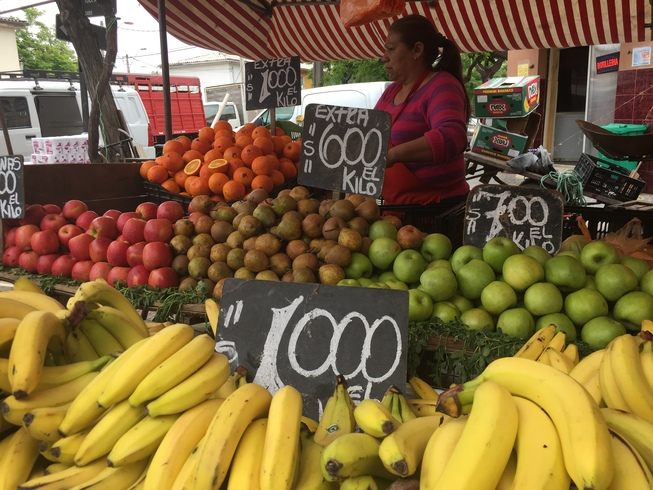precio: (207, 269, 420, 426), (294, 99, 402, 206), (458, 185, 570, 274), (243, 54, 308, 114)
